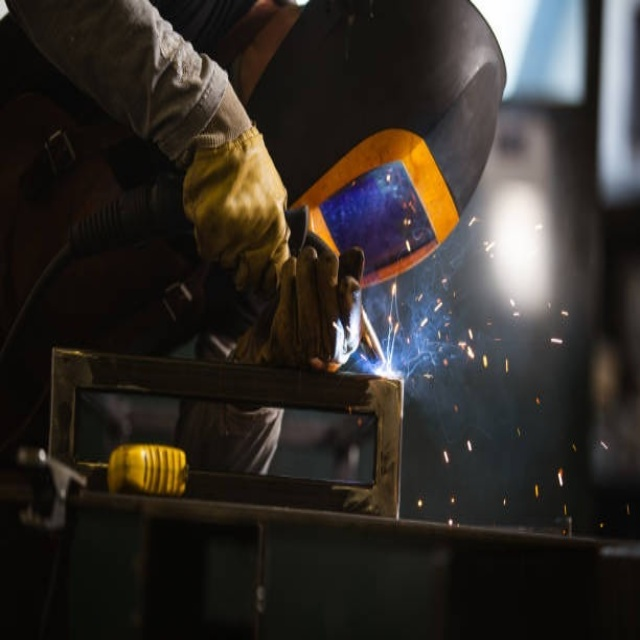Guantes: (239, 234, 368, 374)
